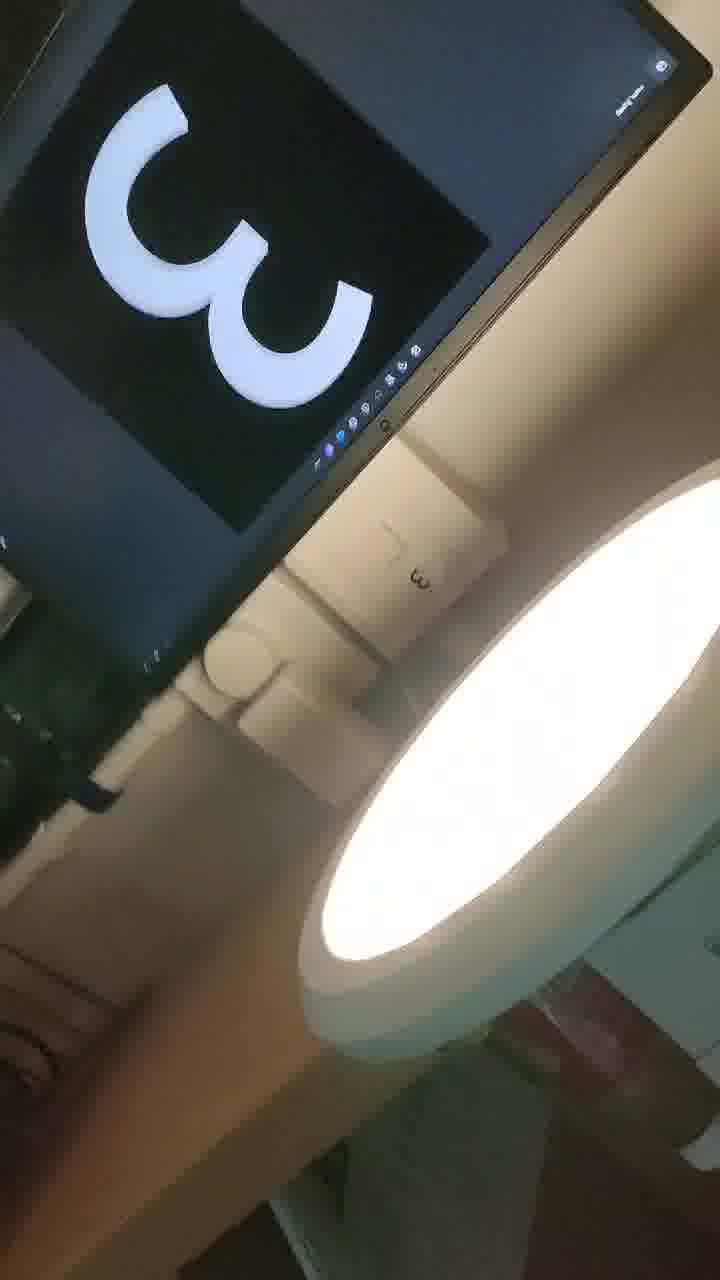three: (83, 42, 426, 425)
